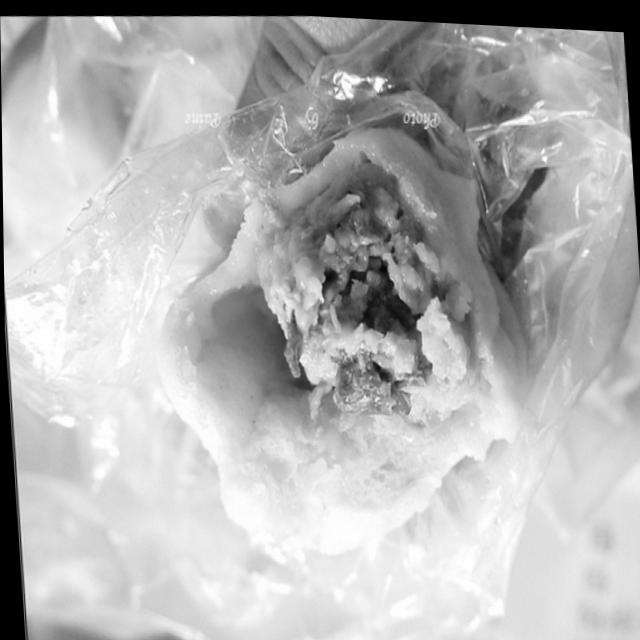带馅早点: (149, 104, 554, 573)
